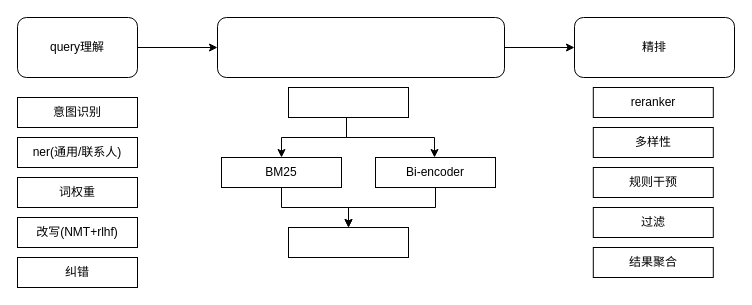
Image size: 752x305. Some labels were removed from this diagram. The shapes that lost their labels are listed below. From the top down, each one's centre as x and y in pixels, then its label:
the point at 360,47: 多数据源多路召回
the point at 348,102: 数据源改写
the point at 348,242: 粗排
